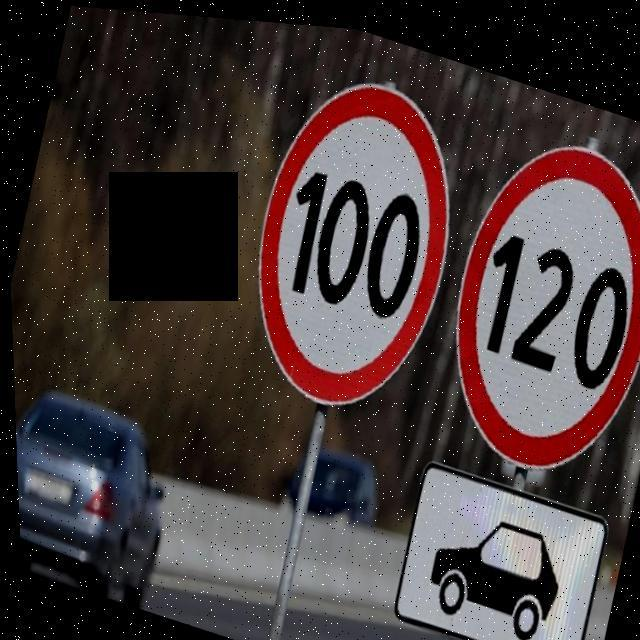speed limit 100: (259, 84, 447, 410)
speed limit 120: (457, 144, 640, 474)
